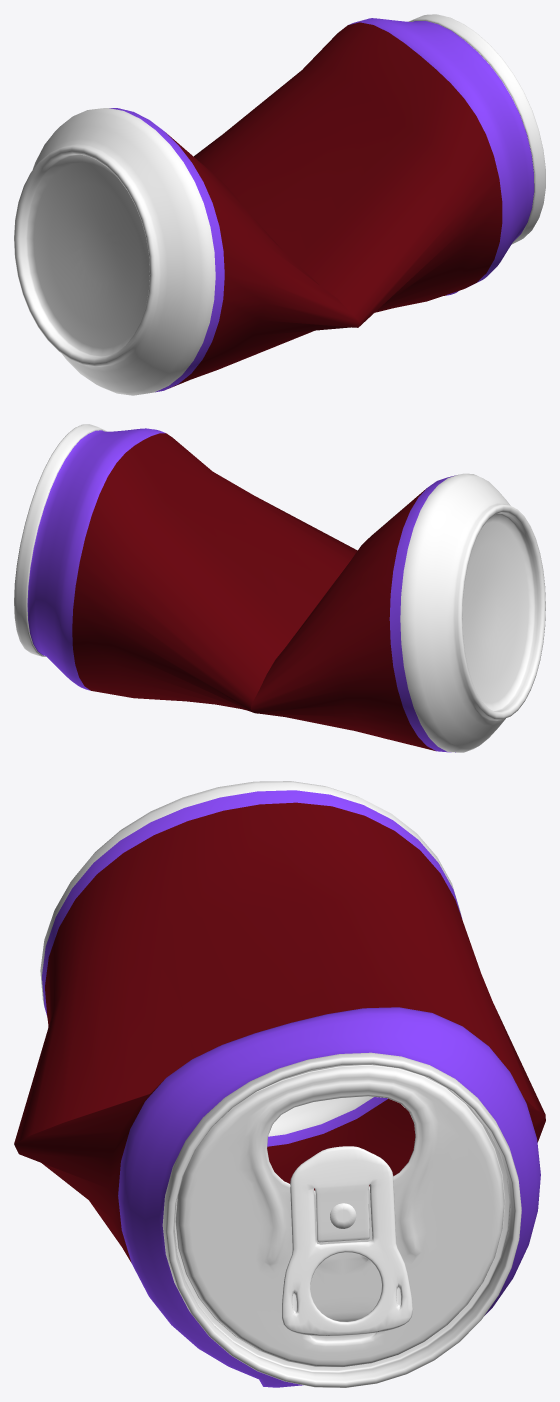
The model's file is kaleng.fbx.
The picture shows the model from 3 angles, top to bottom: view 1: azimuth 30°, elevation 25°; view 2: azimuth 150°, elevation 25°; view 3: azimuth 270°, elevation 25°; orthographic projection. The views are drawn at different scales.
Visible parts, largest first — view 1: Crashed Tin Can.001; view 2: Crashed Tin Can.001; view 3: Crashed Tin Can.001.
Boxes of the visible parts, bbox=[...] form: Crashed Tin Can.001: bbox=[14, 14, 545, 395]; Crashed Tin Can.001: bbox=[14, 424, 545, 752]; Crashed Tin Can.001: bbox=[14, 781, 545, 1387].
Bounding box in the file's own units: 228 × 123 × 156.
